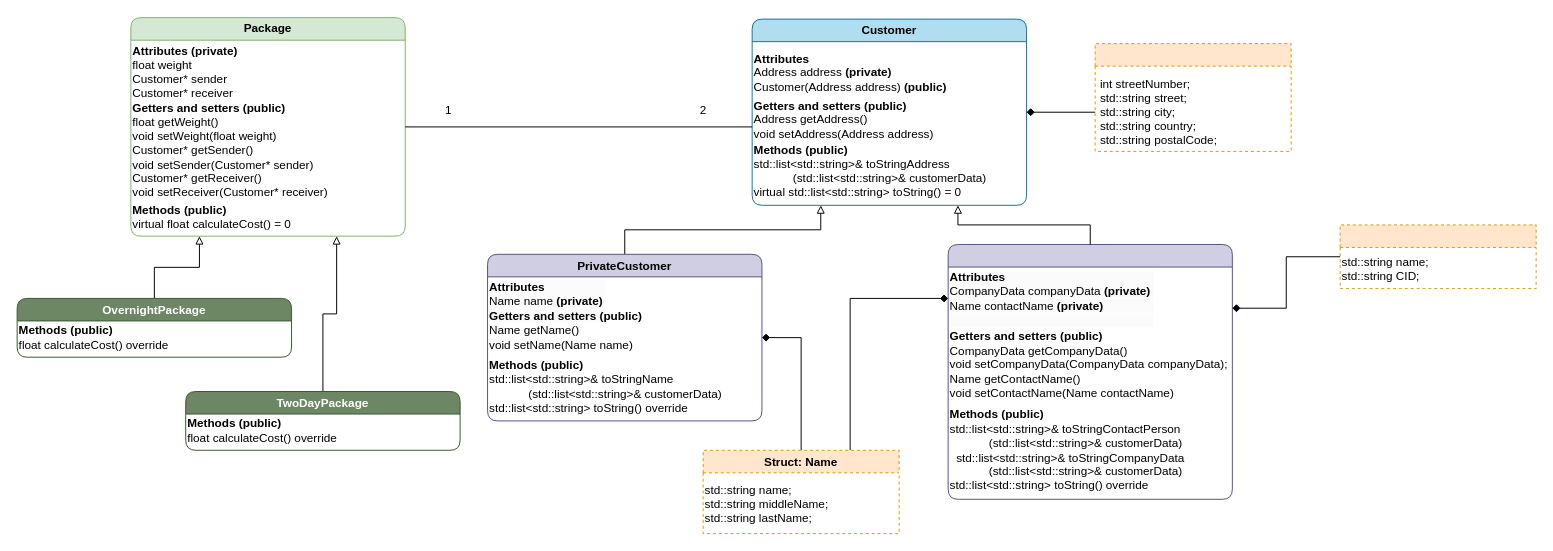
Image size: 1553x551. Some labels were removed from this diagram. The shapes that lost their labels are listed below. From the top down, each one's box as (x1, y1, x2, y2) in pixels, then its label:
(1094, 43, 1291, 151): Struct: Address
(1339, 224, 1536, 289): Struct: CompanyData
(947, 244, 1232, 499): BusinessCustomer
